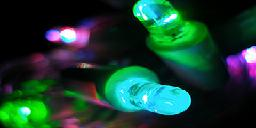LED: (113, 73, 194, 122), (125, 1, 196, 51)
